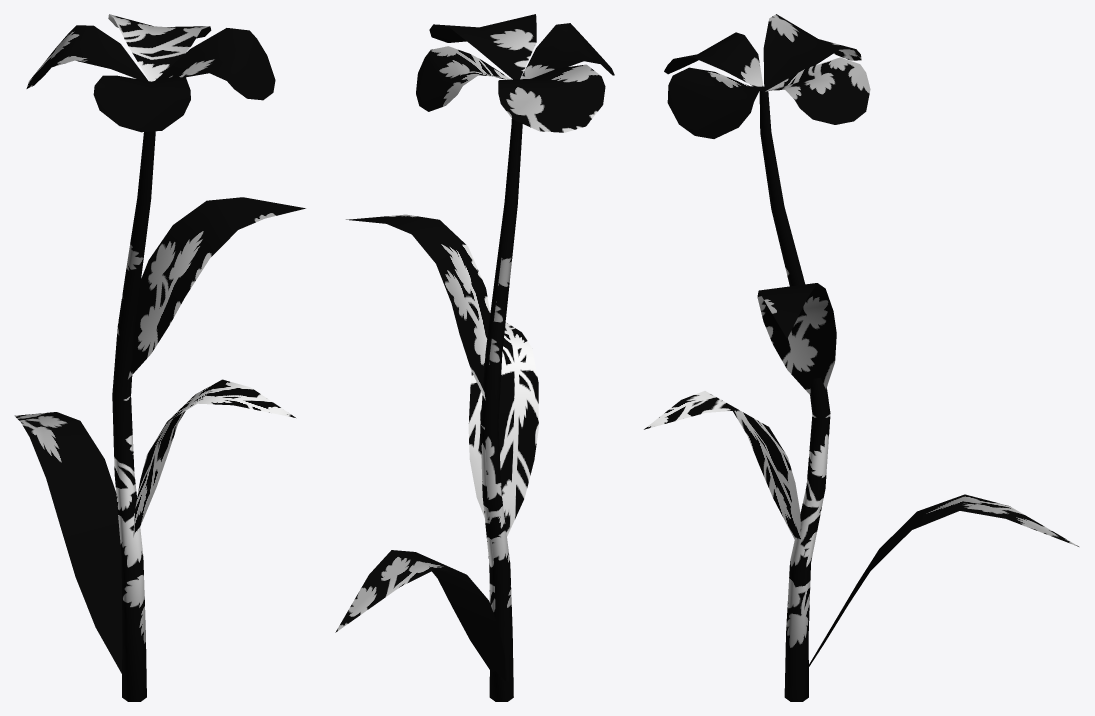
File: SM_Flower_01.glb
3 views of the same model, side by side, from view 1: azimuth 30°, elevation 25°; view 2: azimuth 150°, elevation 25°; view 3: azimuth 270°, elevation 25° (orthographic). The views are drawn at different scales.
Visible parts, largest first — view 1: SM_Flower_01_LOD0; view 2: SM_Flower_01_LOD0; view 3: SM_Flower_01_LOD0.
Boxes of the visible parts, bbox=[...] form: SM_Flower_01_LOD0: bbox=[14, 14, 305, 701]; SM_Flower_01_LOD0: bbox=[335, 14, 614, 701]; SM_Flower_01_LOD0: bbox=[644, 14, 1078, 701].
Size of the model in its own units: 0.2177 by 0.5125 by 0.3155.
Materials: 1 (1 with a texture image).
